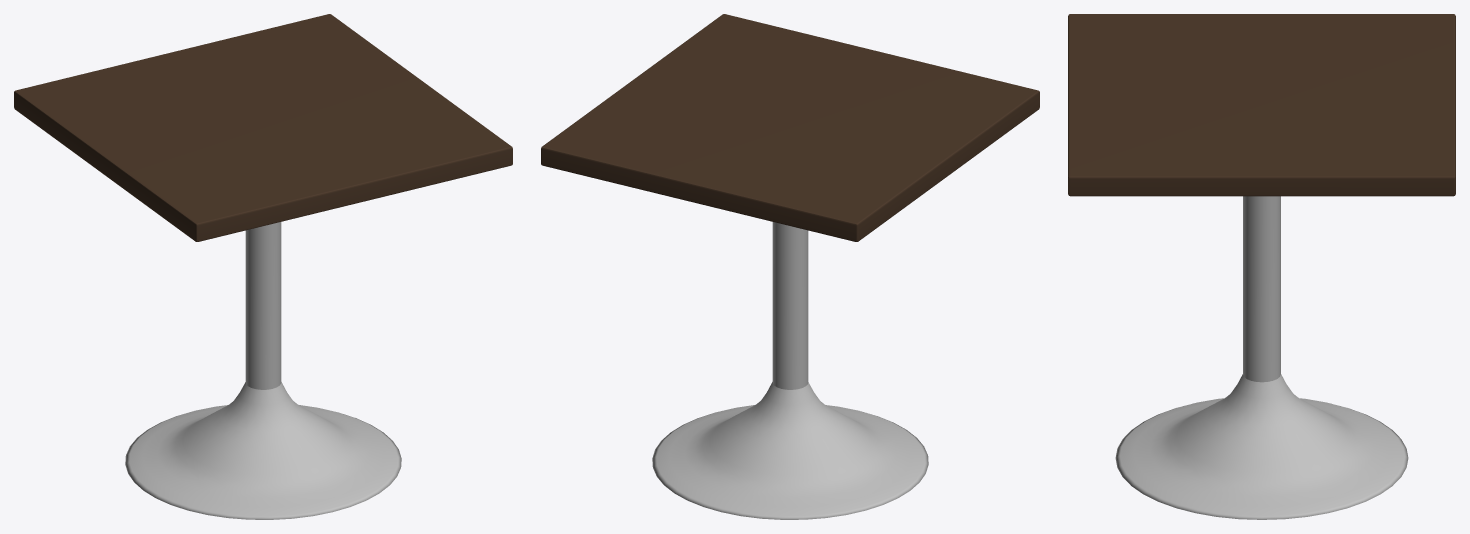
Rendered from basic table.fbx.
3 renders of one model, left to right at view 1: azimuth 30°, elevation 25°; view 2: azimuth 150°, elevation 25°; view 3: azimuth 270°, elevation 25°, orthographic. The views are drawn at different scales.
Parts seen in each view (by area): view 1: polySurface130; view 2: polySurface130; view 3: polySurface130.
Boxes of the visible parts, left/top/right/bottom form: polySurface130: left=14, top=14, right=512, bottom=519; polySurface130: left=541, top=14, right=1039, bottom=519; polySurface130: left=1068, top=14, right=1455, bottom=519.
Size of the model in its own units: 2.18 by 2.27 by 2.18.
